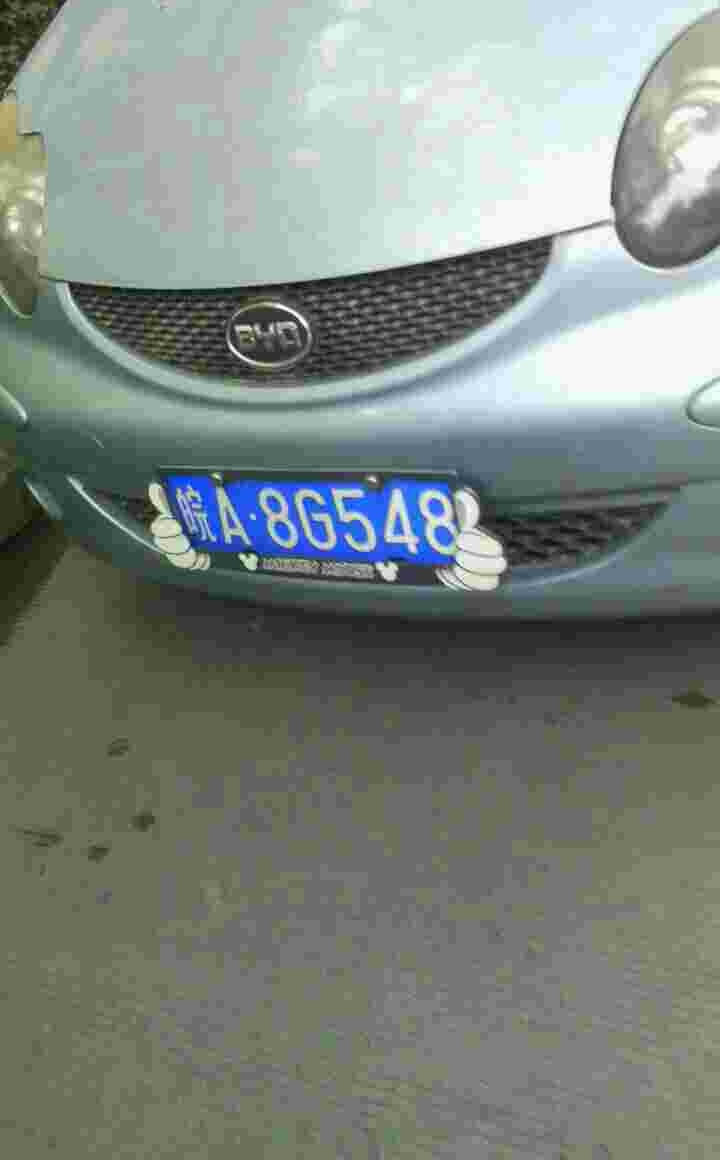license_plate: (159, 475, 465, 564)
